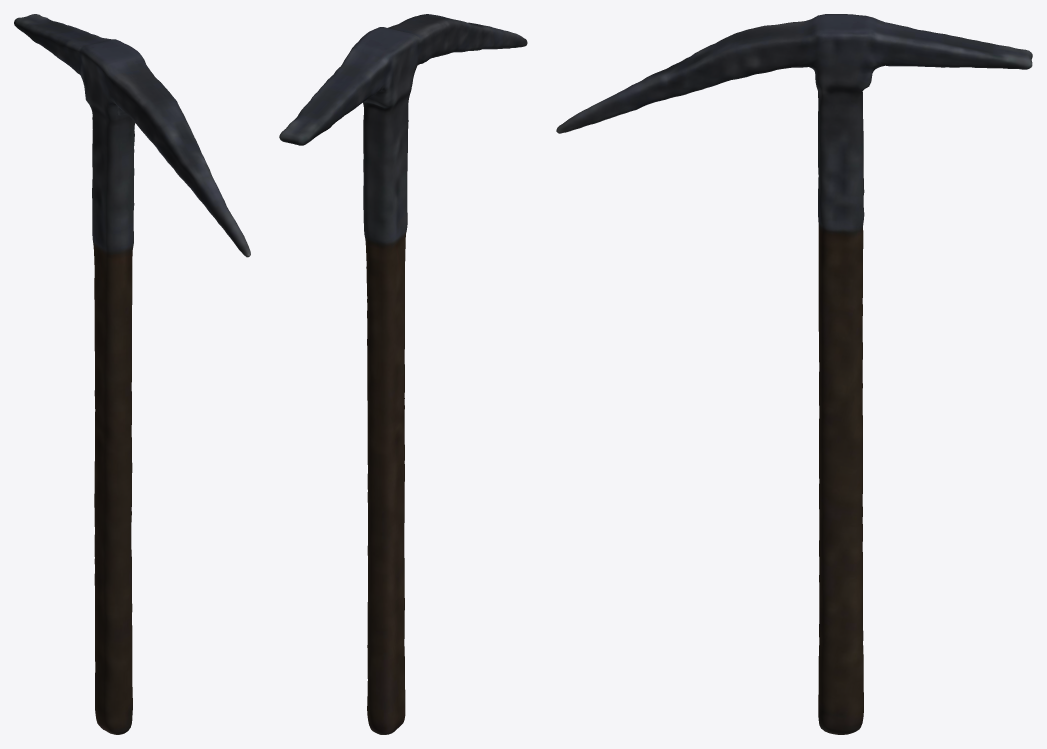
File: 18ba90b5fd6c_a_pickaxe_which_can.fbx
3 renders of one model, left to right at view 1: azimuth 30°, elevation 25°; view 2: azimuth 150°, elevation 25°; view 3: azimuth 270°, elevation 25°, orthographic. The views are drawn at different scales.
Visible parts, largest first — view 1: mesh; view 2: mesh; view 3: mesh.
Part boxes in pixels (bbox=[...]): mesh: bbox=[14, 14, 250, 734]; mesh: bbox=[279, 14, 527, 734]; mesh: bbox=[556, 14, 1032, 734].
Size of the model in its own units: 6.52 by 99.96 by 60.74.
